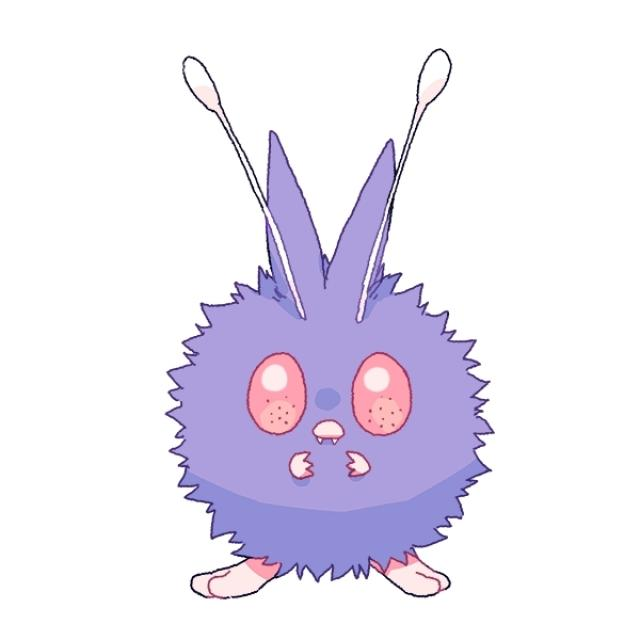Venonat: (165, 97, 476, 589)
